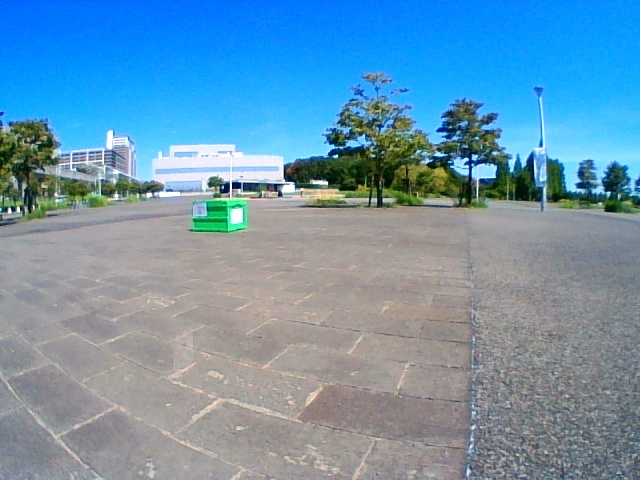green_box: (192, 200, 245, 231)
tag: (193, 203, 206, 217)
